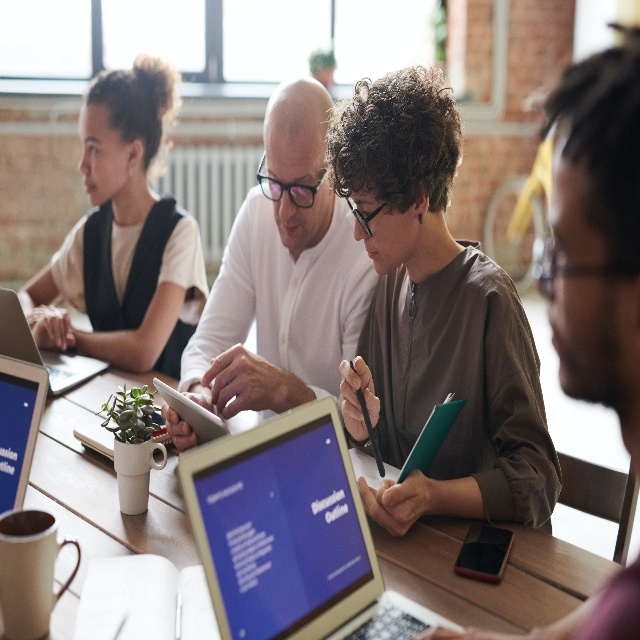Gafas: (256, 149, 329, 208), (345, 196, 387, 238)
Sin_guantes: (201, 343, 278, 421), (358, 468, 428, 538), (339, 355, 380, 443), (160, 389, 212, 454), (33, 309, 76, 354)
